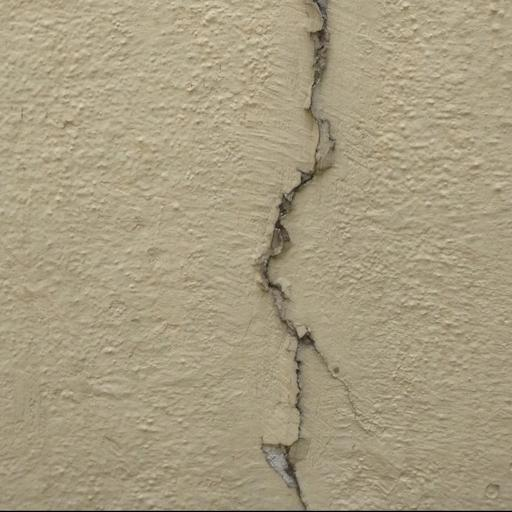minor_crack: (246, 5, 396, 512)
